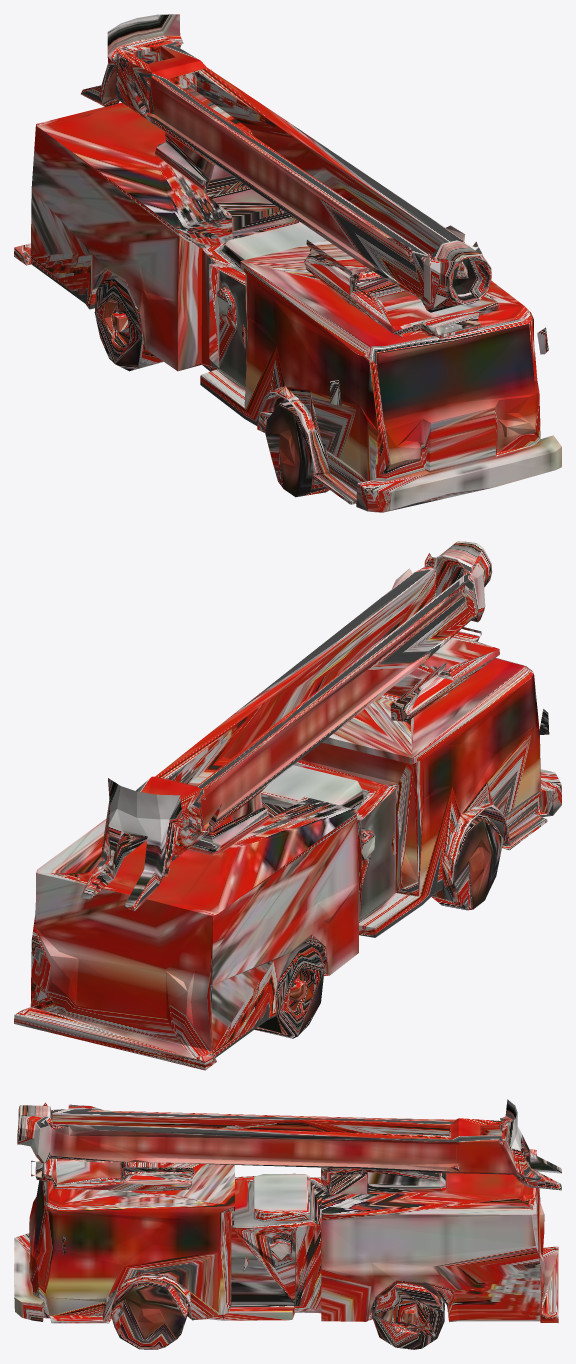
The picture shows the model from 3 angles, top to bottom: view 1: azimuth 30°, elevation 25°; view 2: azimuth 150°, elevation 25°; view 3: azimuth 270°, elevation 25°; orthographic projection. The views are drawn at different scales.
Visible parts, largest first — view 1: Object_2; view 2: Object_2; view 3: Object_2.
Boxes of the visible parts, bbox=[...] form: Object_2: bbox=[14, 14, 561, 512]; Object_2: bbox=[14, 541, 561, 1070]; Object_2: bbox=[14, 1099, 561, 1349].
Bounding box in the file's own units: 0.6504 × 0.7951 × 1.89.
Materials: 1 (1 with a texture image).
